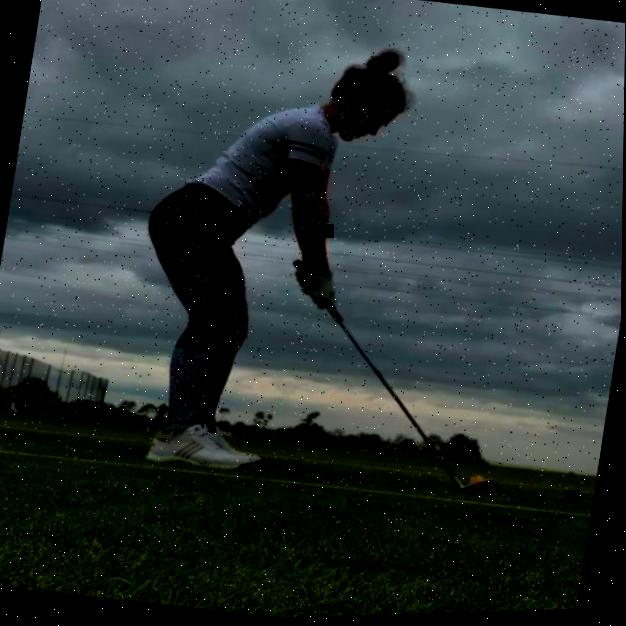ClubHead: (463, 477, 500, 501)
GolfBall: (467, 476, 487, 486)
